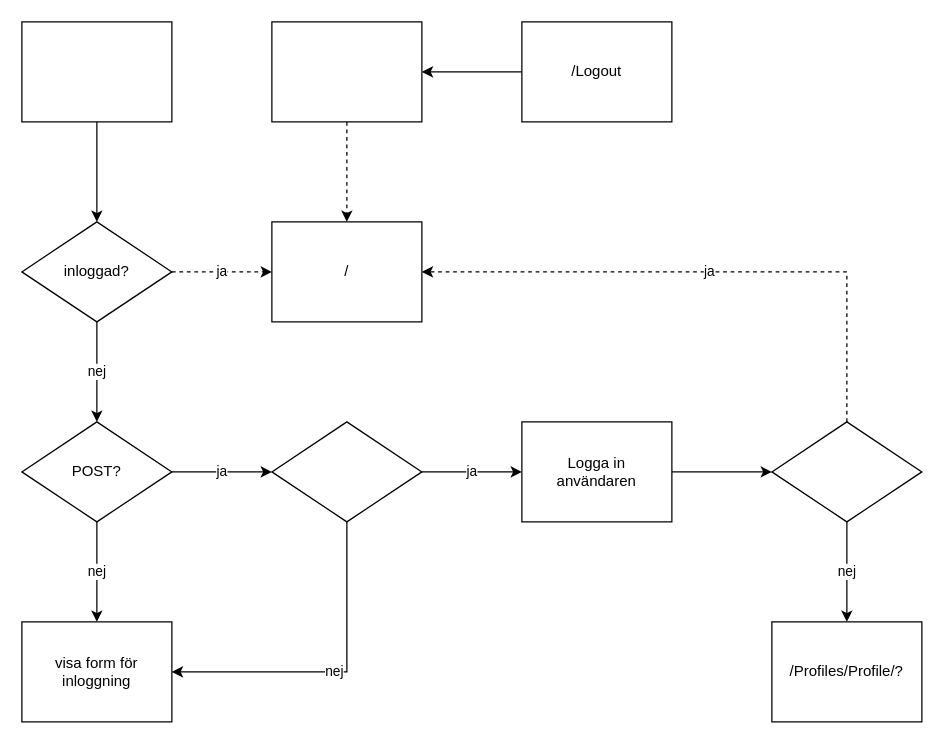
The diagram is 944 pixels wide and 744 high, and some of its shapes have lost their labels. The centre of each missing label's shape, as x and y in pixels:
"/Login" goes at (96,71).
"användaren har en profil?" goes at (846,471).
"inloggning validerar?" goes at (346,471).
"logga ut användaren" goes at (346,71).
